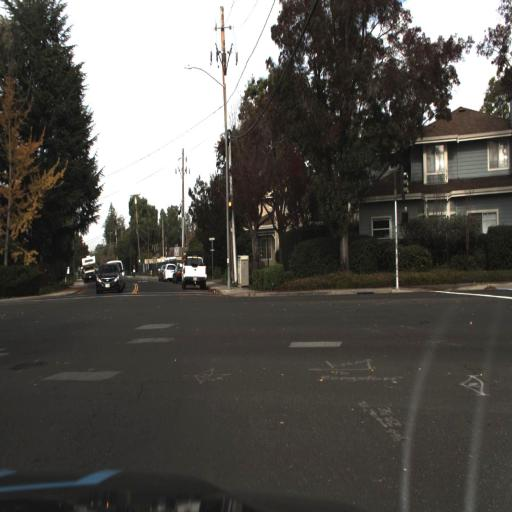car: (89, 257, 124, 299), (178, 252, 211, 294)
trafficLight-Red: (221, 196, 236, 235), (227, 192, 234, 225)
truck: (78, 251, 96, 282)
